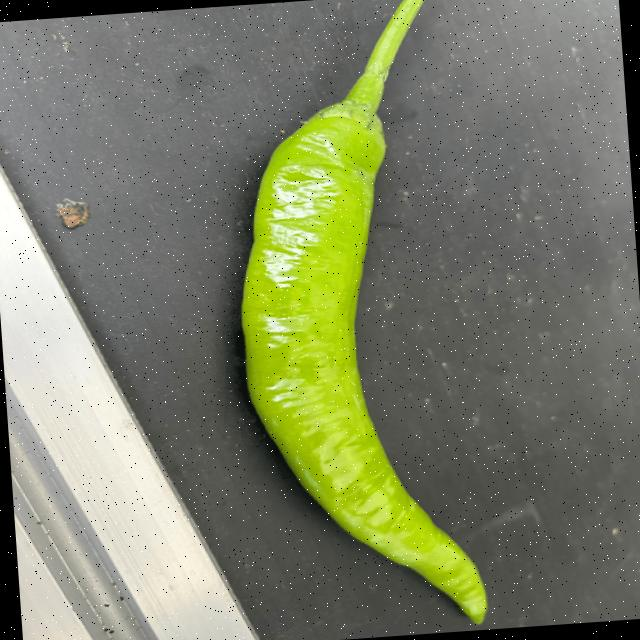chili: (239, 101, 487, 626)
